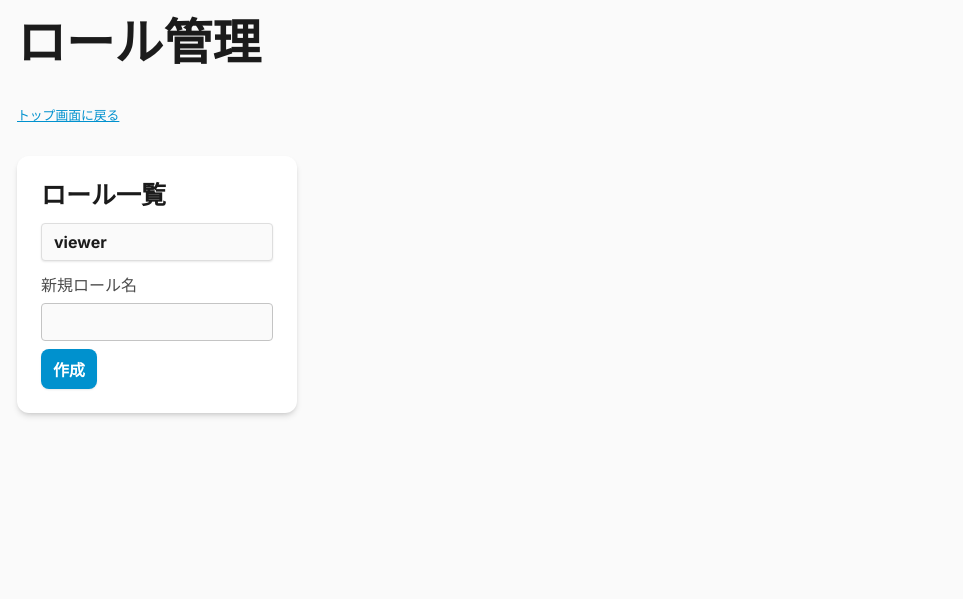
Scenario: admin roles page › ロール一覧を取得して表示し、選択すると権限マトリクスに全アクションが表示される
Click the button "viewer": x=157, y=242 [41, 223, 273, 261]
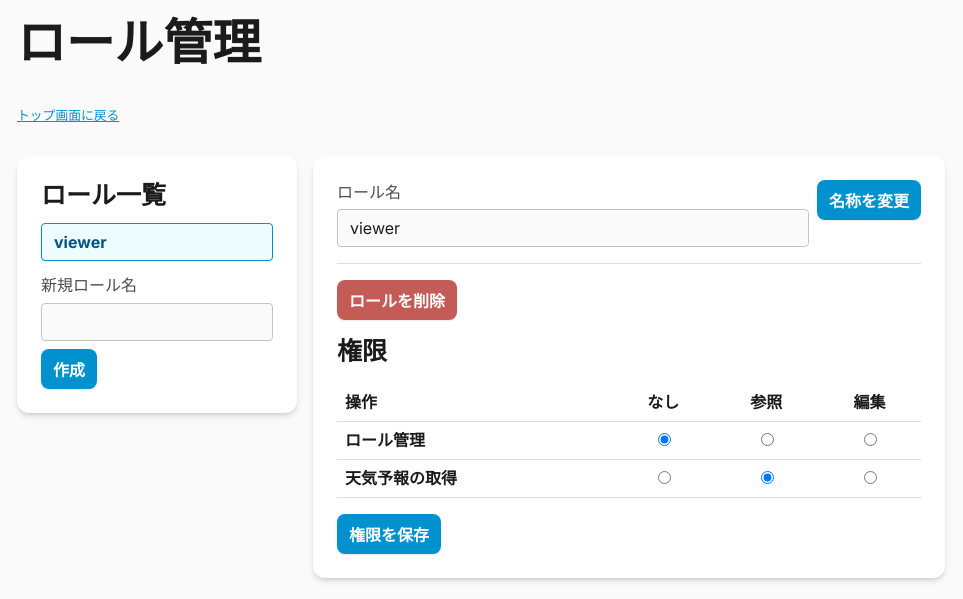
Check: the column heading "ロール管理" is shown, box [337, 421, 612, 460]
Check: the column heading "天気予報の取得" is shown, box [337, 460, 612, 498]
